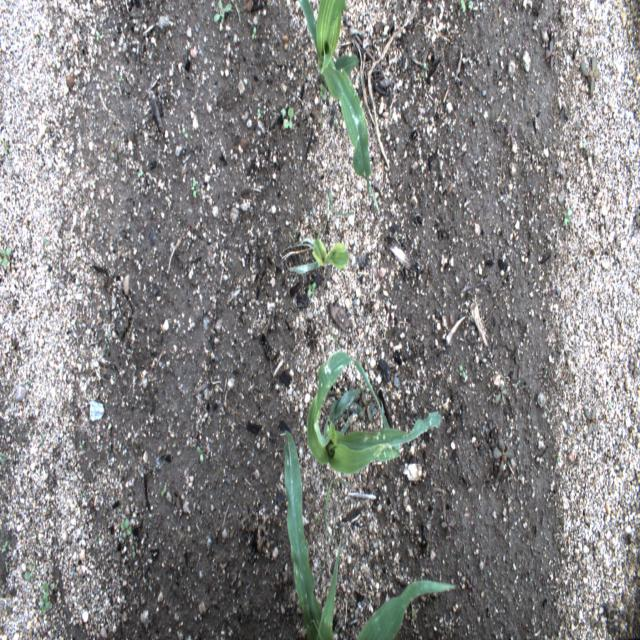crop: (297, 0, 378, 213), (306, 350, 442, 474), (285, 432, 343, 639), (356, 581, 455, 639), (284, 236, 348, 275)
weed: (325, 475, 351, 535), (322, 188, 354, 236), (579, 56, 600, 96), (494, 436, 514, 473), (0, 239, 14, 277), (211, 0, 232, 25), (357, 392, 374, 422), (544, 39, 558, 68), (23, 560, 43, 580), (119, 514, 133, 542), (585, 407, 598, 433), (0, 135, 12, 161), (281, 105, 293, 131), (504, 122, 516, 146), (109, 137, 119, 164), (190, 176, 201, 200), (496, 384, 508, 406), (39, 592, 52, 612), (0, 536, 12, 557), (630, 357, 640, 380), (459, 0, 475, 14), (458, 362, 467, 385), (563, 205, 571, 229), (234, 0, 242, 24), (40, 582, 54, 595), (289, 220, 298, 240), (307, 281, 316, 300), (418, 62, 428, 78), (319, 81, 326, 103), (196, 444, 204, 462), (634, 207, 640, 230), (39, 430, 47, 446), (613, 230, 620, 248), (130, 540, 136, 560), (78, 491, 86, 506), (160, 482, 167, 499), (181, 125, 188, 140), (251, 24, 257, 41), (42, 234, 49, 248), (555, 450, 561, 466), (542, 368, 550, 380), (255, 108, 262, 121), (4, 555, 9, 573), (0, 449, 5, 467), (118, 74, 126, 85), (78, 438, 84, 452), (95, 30, 101, 44), (94, 532, 99, 546), (44, 250, 49, 263), (138, 169, 144, 179), (412, 610, 416, 625), (515, 379, 521, 388), (582, 138, 587, 148), (39, 536, 43, 548), (313, 516, 321, 522)
